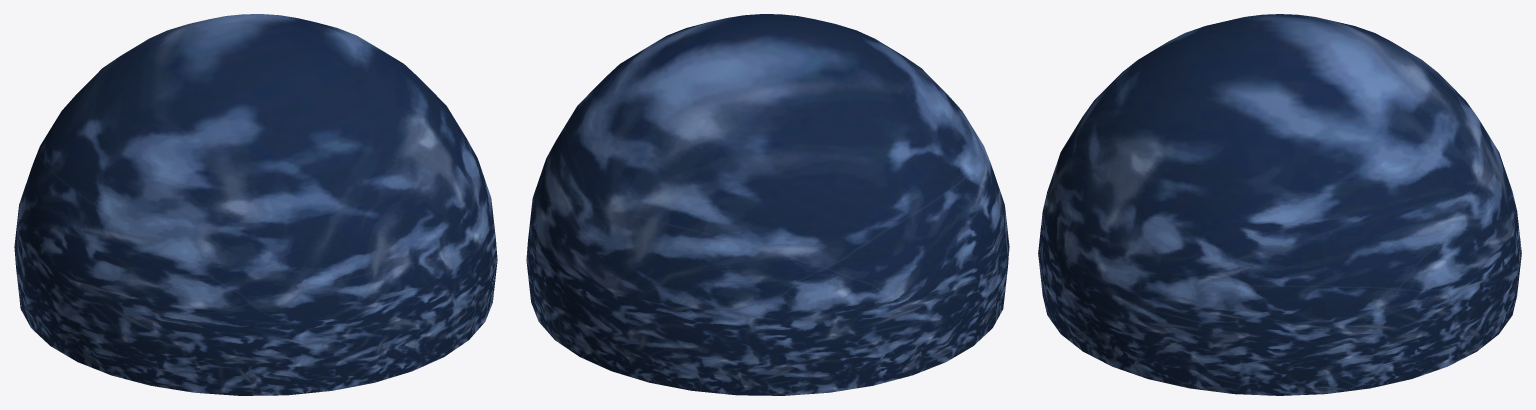
The model's file is ENV_POD_PANO1.fbx.
3 views of the same model, side by side, from view 1: azimuth 30°, elevation 25°; view 2: azimuth 150°, elevation 25°; view 3: azimuth 270°, elevation 25° (orthographic).
Parts seen in each view (by area): view 1: ENV_POD_PANO1_SKYDOME; view 2: ENV_POD_PANO1_SKYDOME; view 3: ENV_POD_PANO1_SKYDOME.
Boxes of the visible parts, x1=… form: ENV_POD_PANO1_SKYDOME: x1=14, y1=14, x2=497, y2=395; ENV_POD_PANO1_SKYDOME: x1=526, y1=14, x2=1009, y2=395; ENV_POD_PANO1_SKYDOME: x1=1038, y1=14, x2=1521, y2=395.
Bounding box in the file's own units: 400000 × 262898 × 400000.
